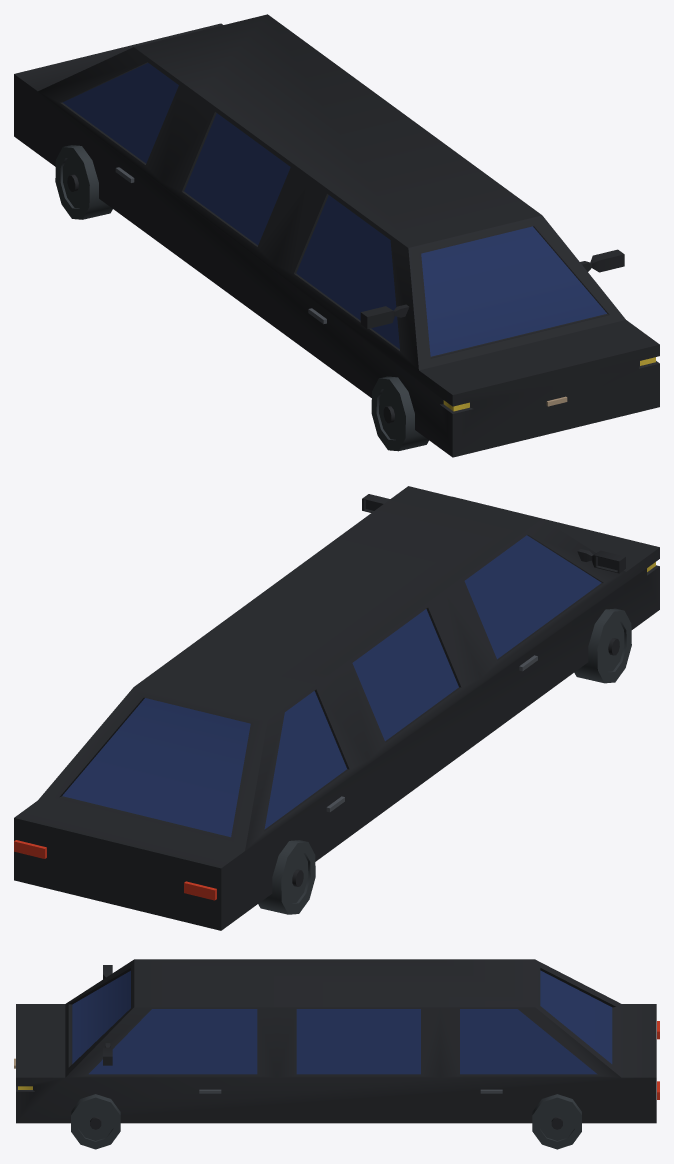
The model's file is Limousine_1.fbx.
3 views of the same model, one above another, from view 1: azimuth 30°, elevation 25°; view 2: azimuth 150°, elevation 25°; view 3: azimuth 270°, elevation 25° (orthographic). The views are drawn at different scales.
Parts seen in each view (by area): view 1: Limousine_1; view 2: Limousine_1; view 3: Limousine_1.
Part boxes in pixels (x1,y1,x2,y2): Limousine_1: (14,14,659,457); Limousine_1: (14,486,659,930); Limousine_1: (14,959,659,1149).
Size of the model in its own units: 335 by 214 by 998.
